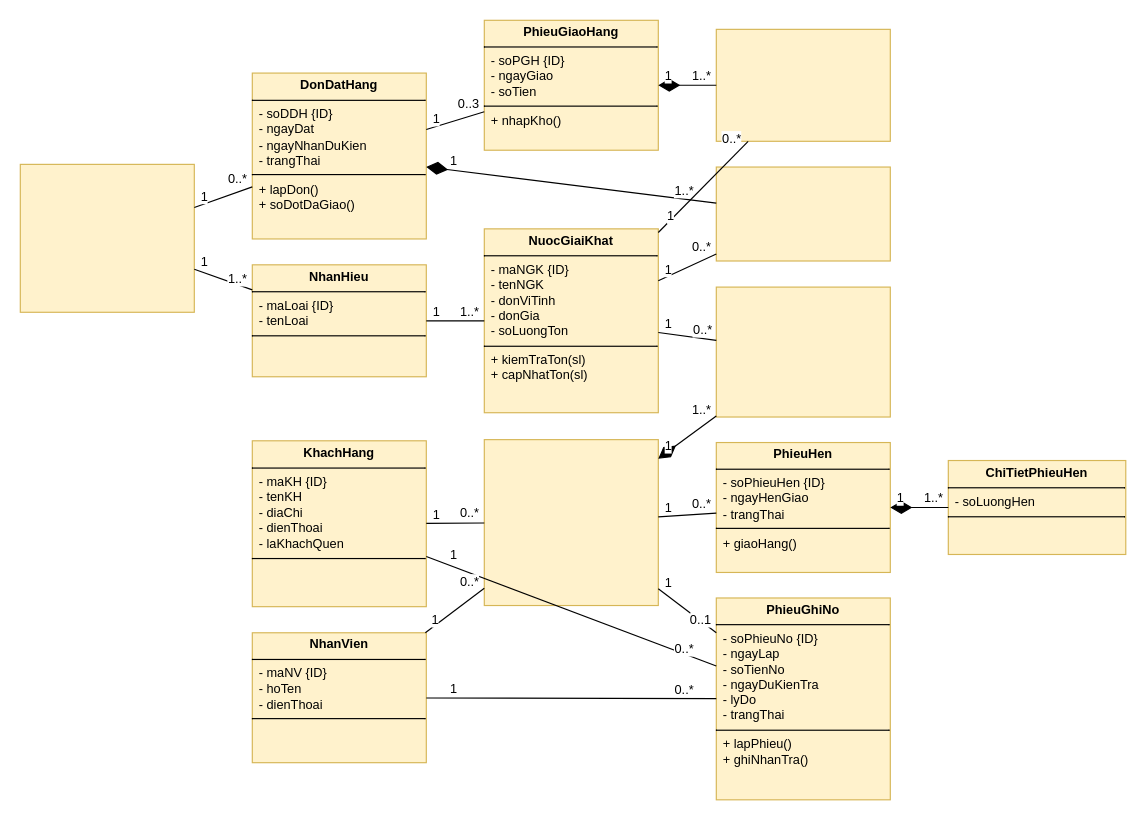
This 1146x820 diagram has some shape labels left out. Each missing label, with the centre of its shape:
"ChiTietDDH - soLuongDat" belongs at pixel 802 213.
"ChiTietHoaDon - soLuong - donGia - soLuongDaGiao" belongs at pixel 802 351.
"ChiTietPGH - soLuongGiao - donGia" belongs at pixel 802 84.
"HoaDon - soHD {ID} - ngayLap - tongTien - trangThai + lapHoaDon() + thanhToan()" belongs at pixel 570 522.
"NhaCungUng - maNCU {ID} - tenNCU - diaChi - dienThoai" belongs at pixel 106 237.
